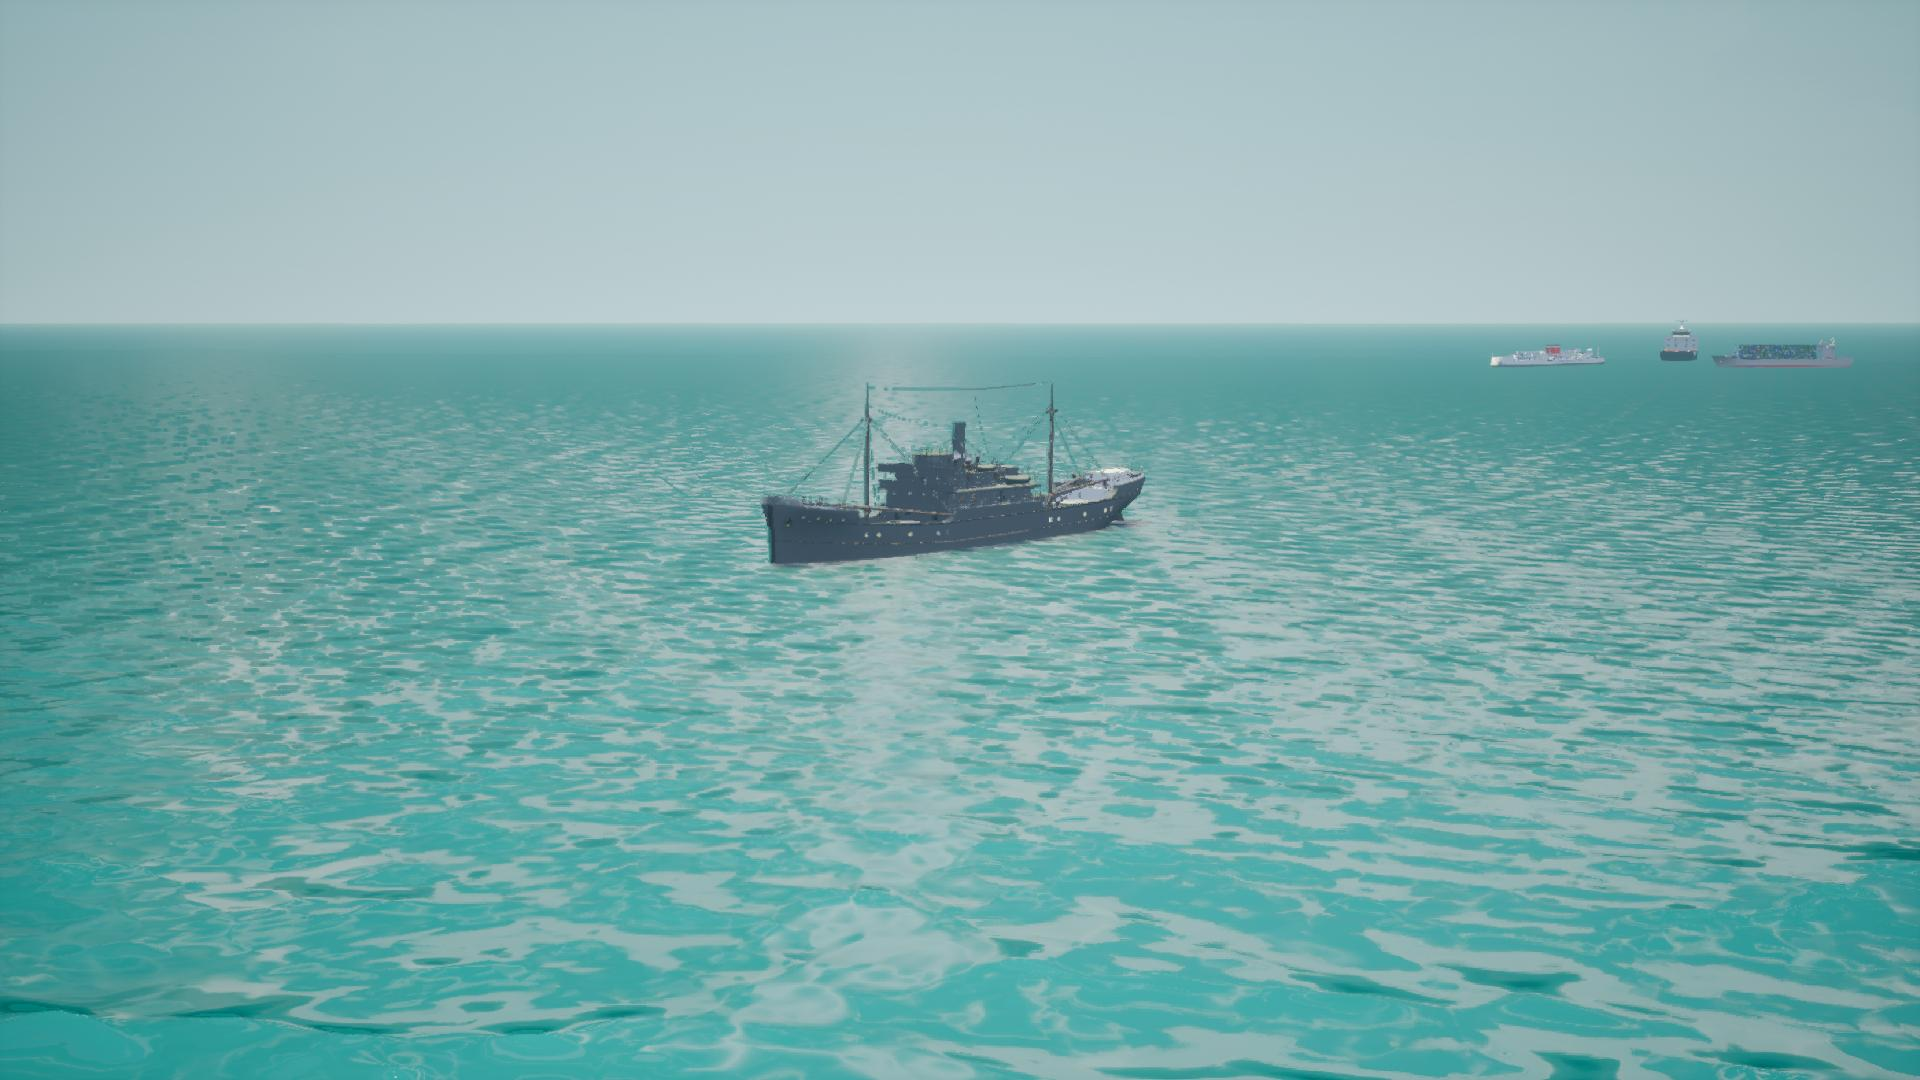Fishing Boat: (762, 378, 1149, 568), (1714, 343, 1853, 371), (1490, 344, 1611, 368), (1656, 326, 1700, 360)
